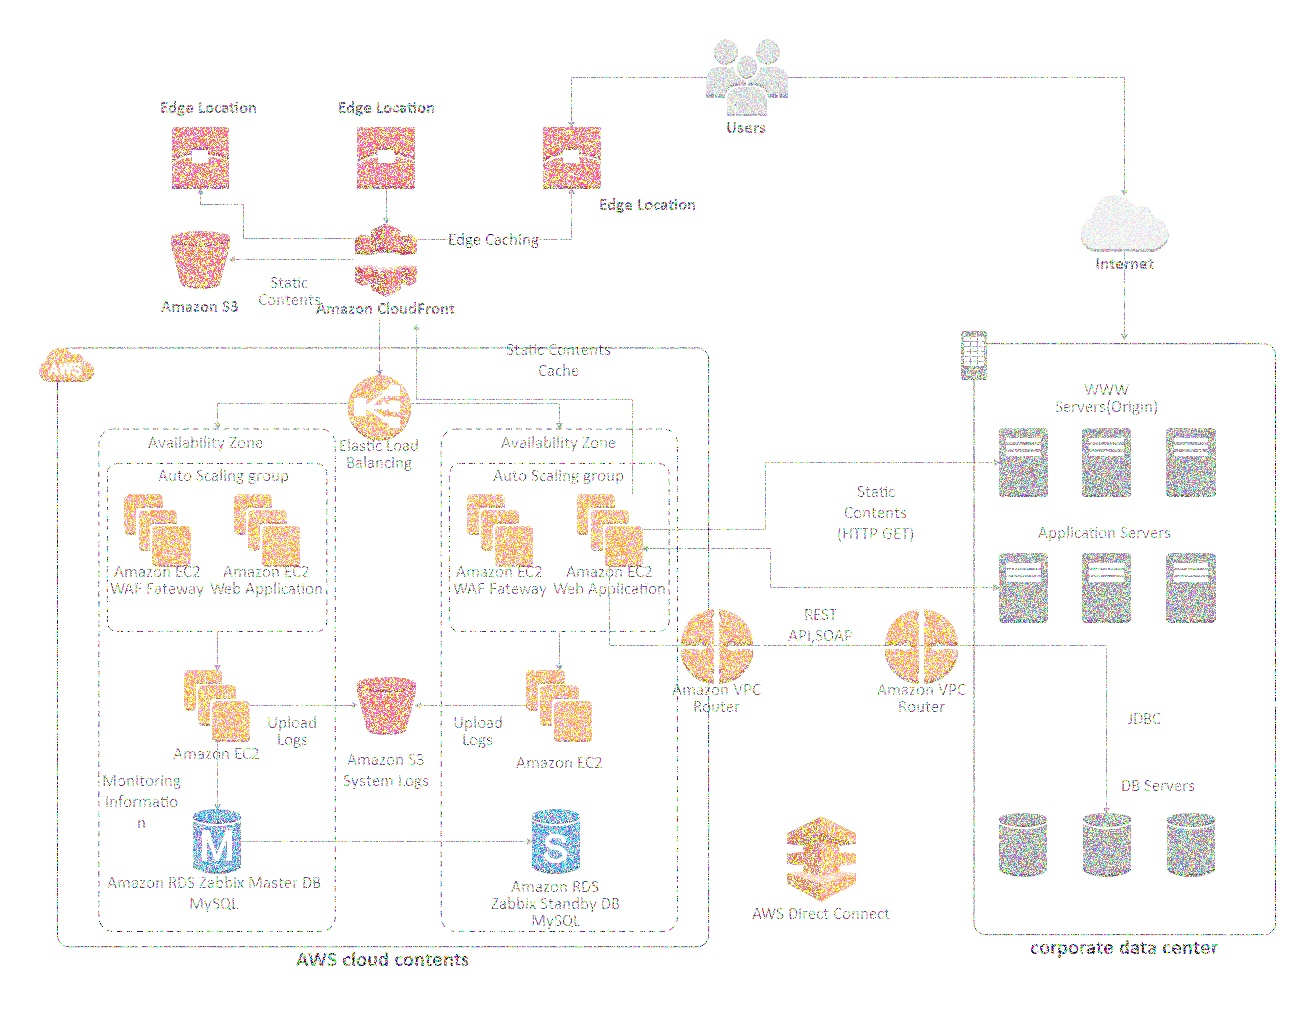Cloudfront: (351, 218, 427, 299)
Direct Connect: (782, 807, 866, 906)
EC2: (519, 667, 599, 747), (119, 489, 195, 568), (461, 489, 536, 568), (177, 667, 255, 743), (231, 489, 306, 568), (575, 487, 646, 568)
ELB: (345, 367, 416, 442)
Edge Location: (163, 115, 240, 196), (349, 118, 424, 197), (535, 120, 611, 197)
Internet: (1081, 187, 1173, 256)
RDS: (1071, 804, 1144, 881), (989, 803, 1055, 885), (1161, 803, 1226, 880), (523, 801, 589, 875), (188, 805, 248, 875)
S3: (357, 667, 419, 742), (169, 223, 233, 292)
Server: (1155, 541, 1227, 632), (1159, 411, 1223, 504), (1073, 545, 1140, 631), (989, 543, 1059, 626), (993, 417, 1055, 506), (1077, 417, 1139, 506)
Users: (707, 31, 792, 118)
VPC Router: (883, 601, 960, 683), (683, 607, 754, 680)
aws: (31, 339, 100, 388)
